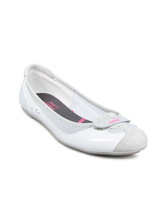shoes: (17, 57, 150, 159)
